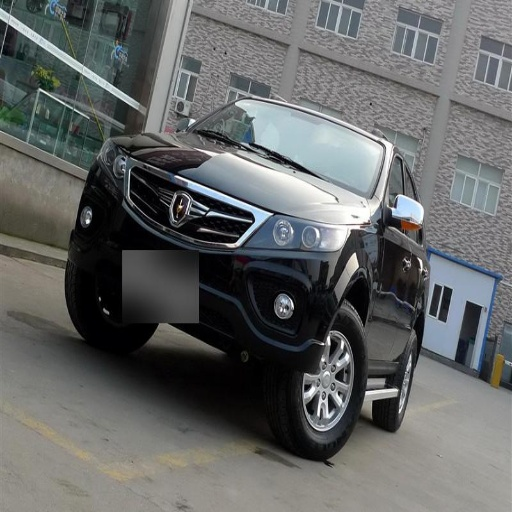front_bumper: (133, 168, 348, 351)
front_glass: (191, 107, 381, 195)
